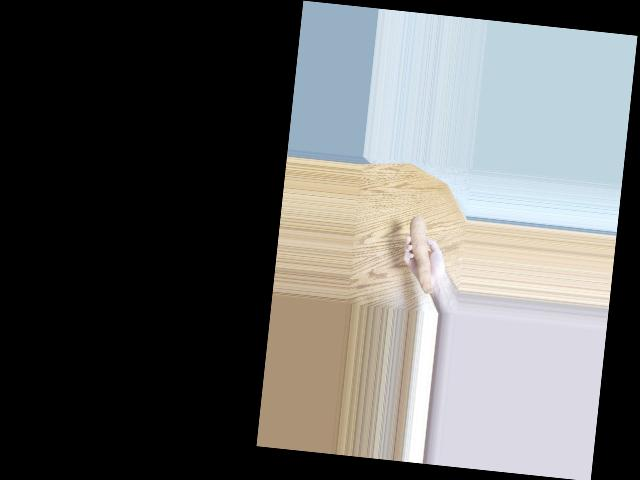sweet_potato: (402, 212, 437, 290)
